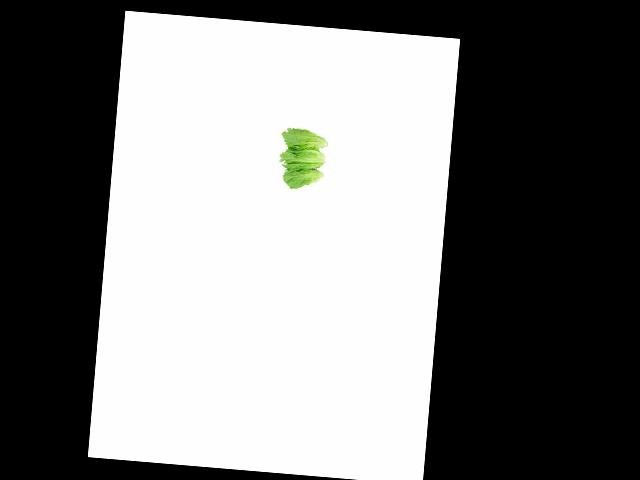lettuce: (280, 163, 334, 192)
